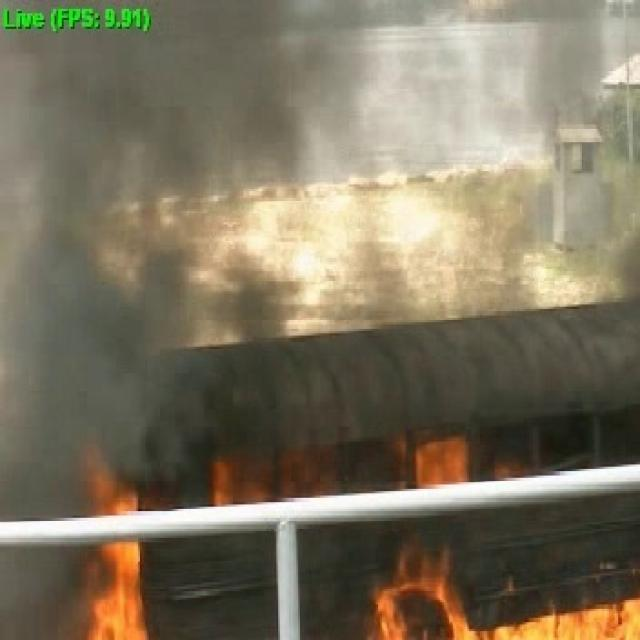Fire: (72, 431, 640, 640)
Smoke: (0, 9, 317, 409)
